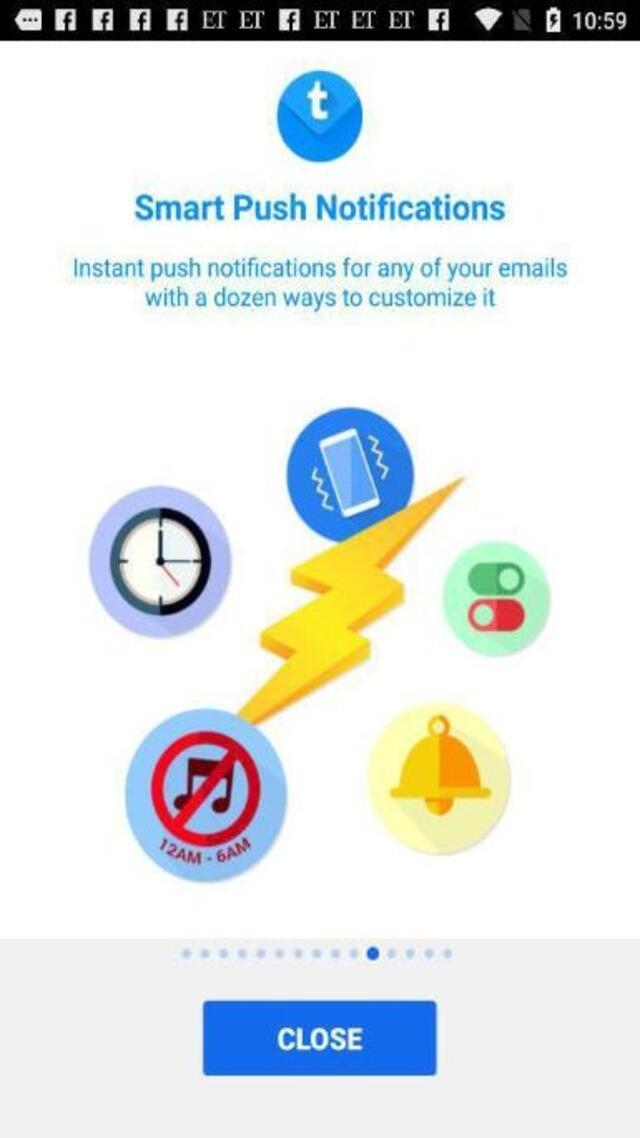Image: (88, 405, 550, 882), (278, 68, 364, 162)
Text: (72, 257, 573, 281), (135, 192, 507, 221), (141, 286, 504, 312), (276, 1023, 366, 1053)
TextButton: (202, 998, 436, 1074)
